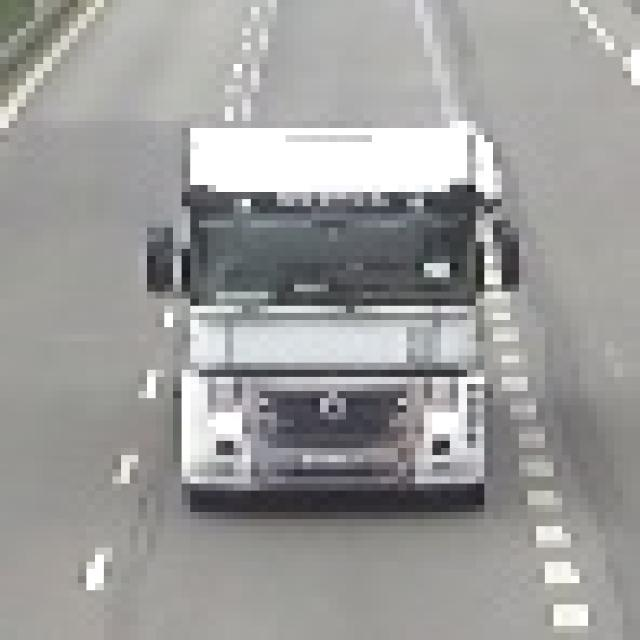TRUCK: (149, 124, 528, 513)
